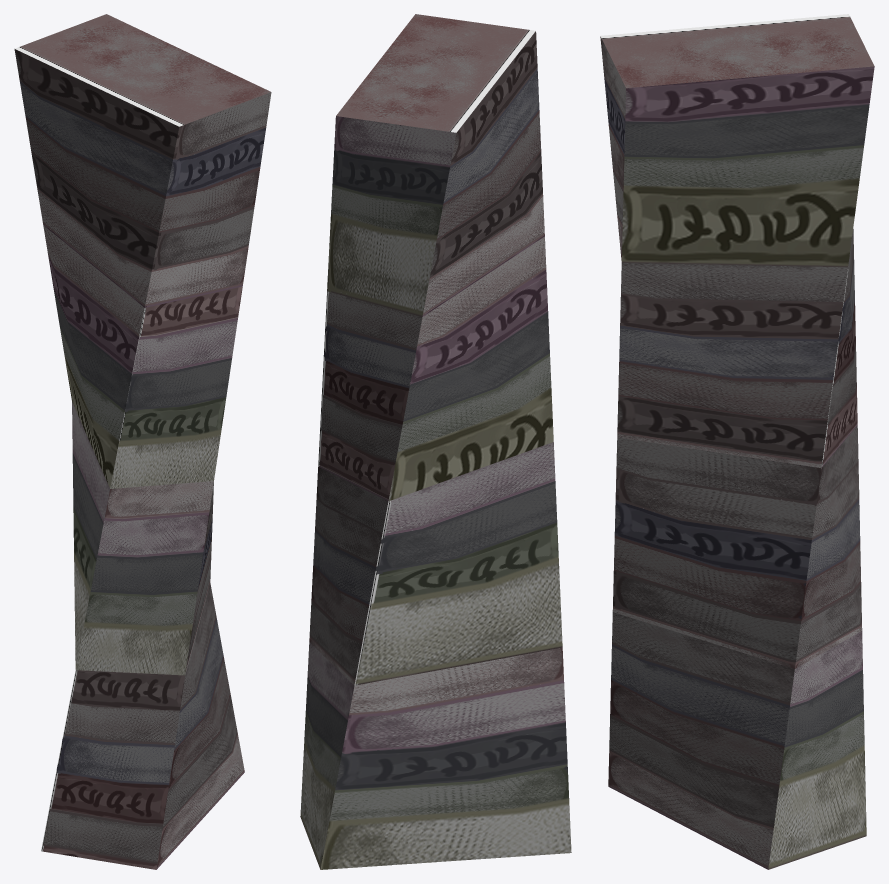
Rendered from book.fbx.
3 renders of one model, left to right at view 1: azimuth 30°, elevation 25°; view 2: azimuth 150°, elevation 25°; view 3: azimuth 270°, elevation 25°, orthographic. The views are drawn at different scales.
Visible parts, largest first — view 1: 立方体.048; view 2: 立方体.048; view 3: 立方体.048.
Boxes of the visible parts, x1,y1,x2,y2 form: 立方体.048: (14, 14, 271, 869); 立方体.048: (300, 14, 571, 869); 立方体.048: (600, 14, 874, 869).
Size of the model in its own units: 55.94 by 169 by 55.41.
